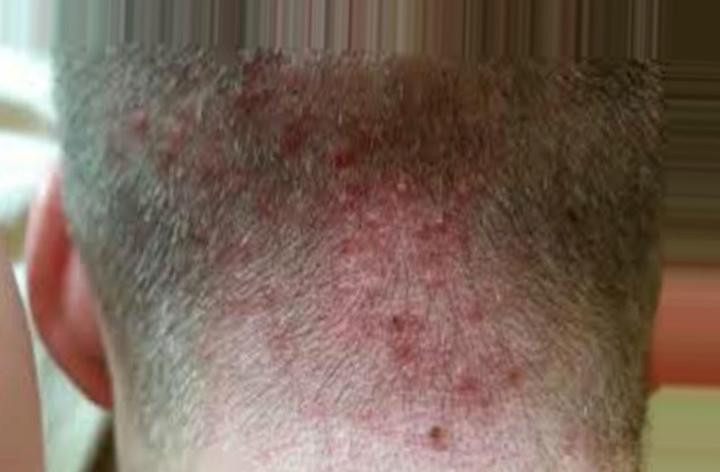Folliculitis: (264, 131, 491, 419)
